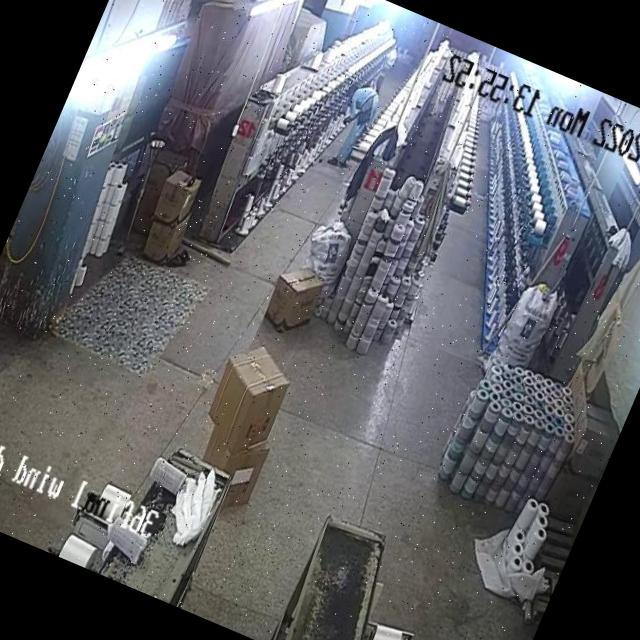person: (314, 75, 388, 180)
